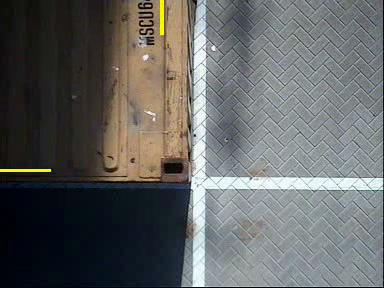groundmarker_2: (126, 217, 248, 288)
